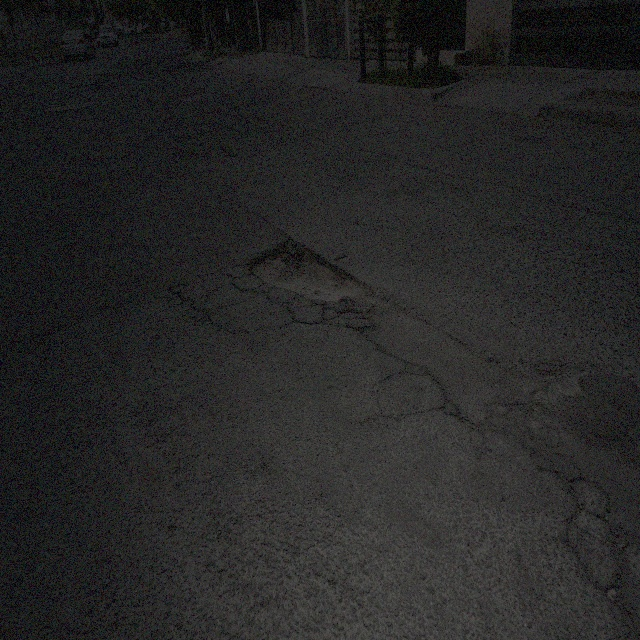pothole: (245, 231, 379, 307), (542, 361, 585, 401)
